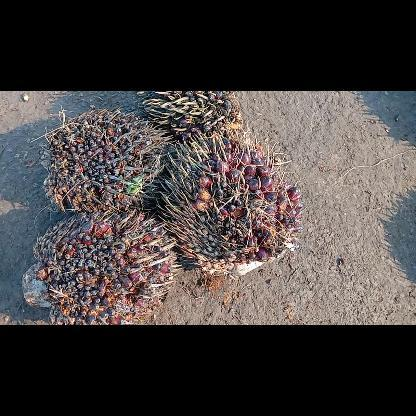TBS abnormal: (18, 206, 186, 324), (36, 105, 178, 215), (139, 92, 246, 140)
TBS masak: (154, 127, 304, 280)
